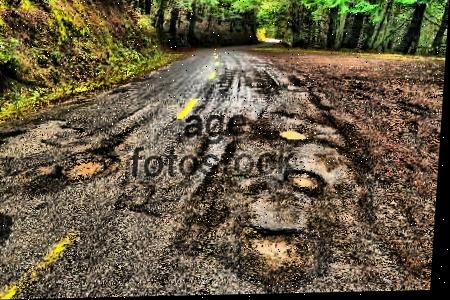pothole: (244, 225, 312, 268), (53, 152, 122, 183), (285, 169, 328, 199), (278, 128, 313, 144)
